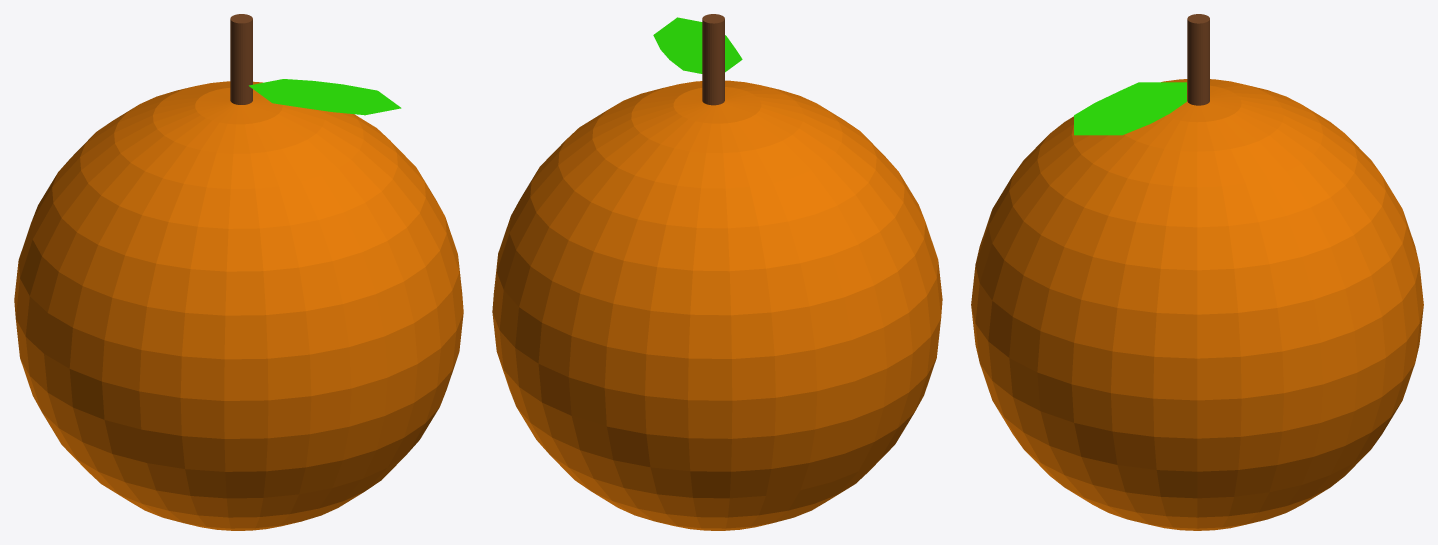
Rendered from manzana.dae.
The picture shows the model from 3 angles, left to right: view 1: azimuth 30°, elevation 25°; view 2: azimuth 150°, elevation 25°; view 3: azimuth 270°, elevation 25°; orthographic projection.
Visible parts, largest first — view 1: Sphere, Plane, Cylinder; view 2: Sphere, Plane, Cylinder; view 3: Sphere, Plane, Cylinder.
Boxes of the visible parts, x1,y1,x2,y2 form: Sphere: (14,81,463,530); Plane: (249,79,401,115); Cylinder: (230,14,252,104); Sphere: (492,80,942,530); Plane: (653,17,742,73); Cylinder: (702,14,724,105); Sphere: (971,79,1423,530); Plane: (1074,82,1186,135); Cylinder: (1187,14,1209,105).
Size of the model in its own units: 0.2 by 0.2 by 0.2402.
